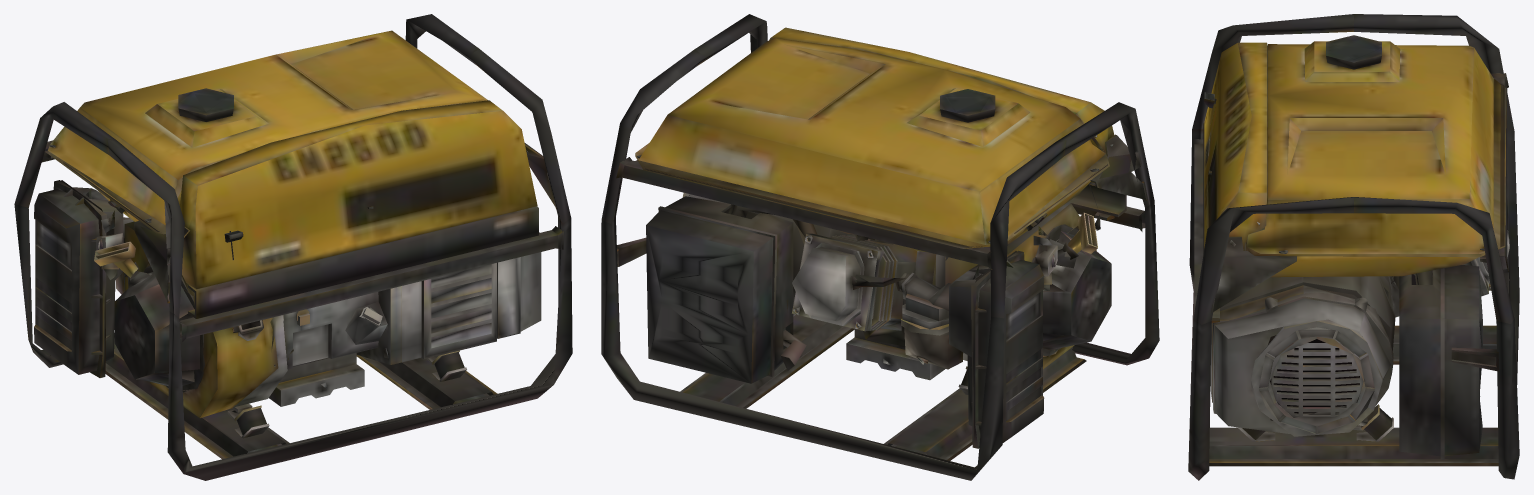
Rendered from portable_generator.glb.
The picture shows the model from 3 angles, left to right: view 1: azimuth 30°, elevation 25°; view 2: azimuth 150°, elevation 25°; view 3: azimuth 270°, elevation 25°; orthographic projection.
Visible parts, largest first — view 1: portable_generator; view 2: portable_generator; view 3: portable_generator.
Part boxes in pixels (x1,y1,x2,y2): portable_generator: (14, 14, 572, 480); portable_generator: (601, 14, 1159, 480); portable_generator: (1188, 14, 1519, 480).
Size of the model in its own units: 0.8169 by 0.5753 by 0.564.
2 materials, 2 textured.
